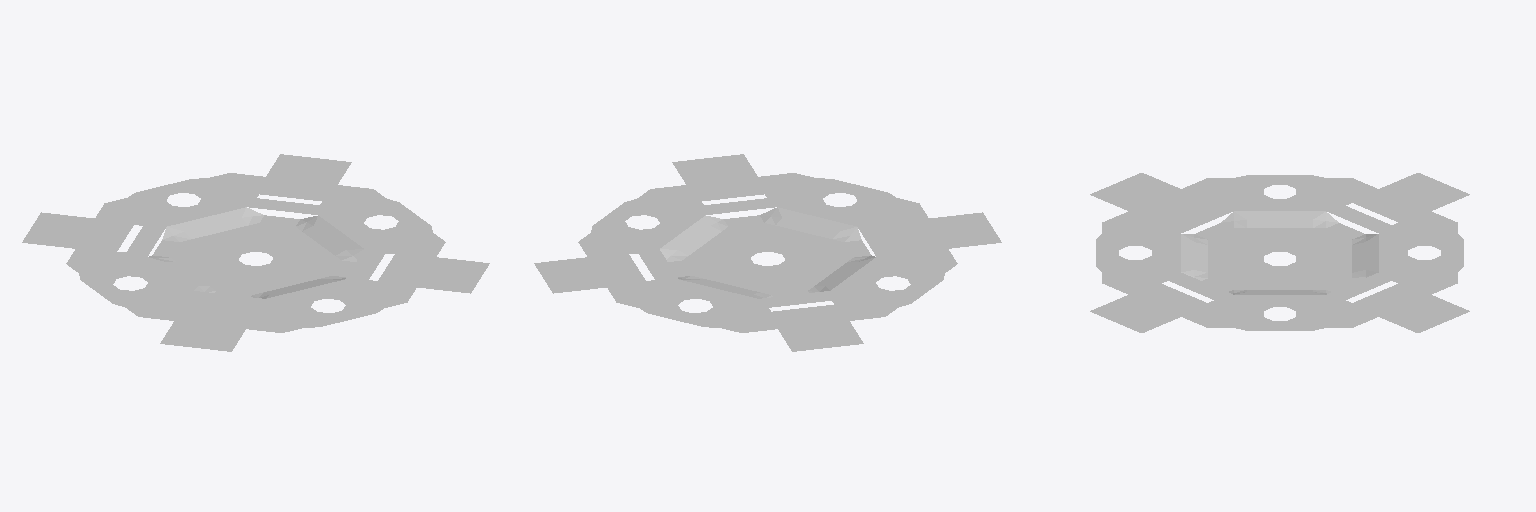
The model's file is ArenaCutUpFloors.obj.
The picture shows the model from 3 angles: view 1: azimuth 30°, elevation 25°; view 2: azimuth 150°, elevation 25°; view 3: azimuth 270°, elevation 25°; orthographic projection.
Parts seen in each view (by area): view 1: ArenaFloor; view 2: ArenaFloor; view 3: ArenaFloor.
Part boxes in pixels (x1,y1,x2,y2): ArenaFloor: (22,154,489,351); ArenaFloor: (534,154,1001,351); ArenaFloor: (1090,173,1469,332).
Size of the model in its own units: 58 by 1 by 58.